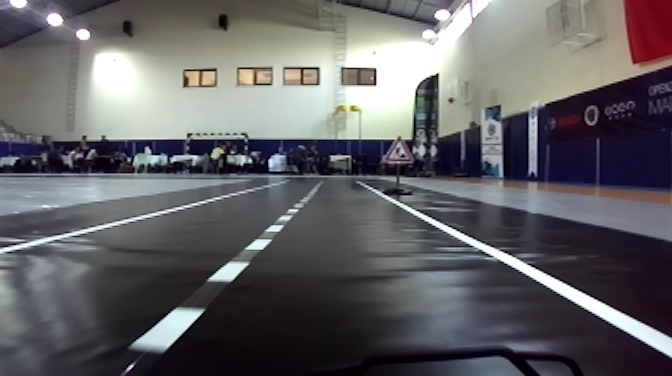yol_yapimi: (377, 132, 420, 167)
